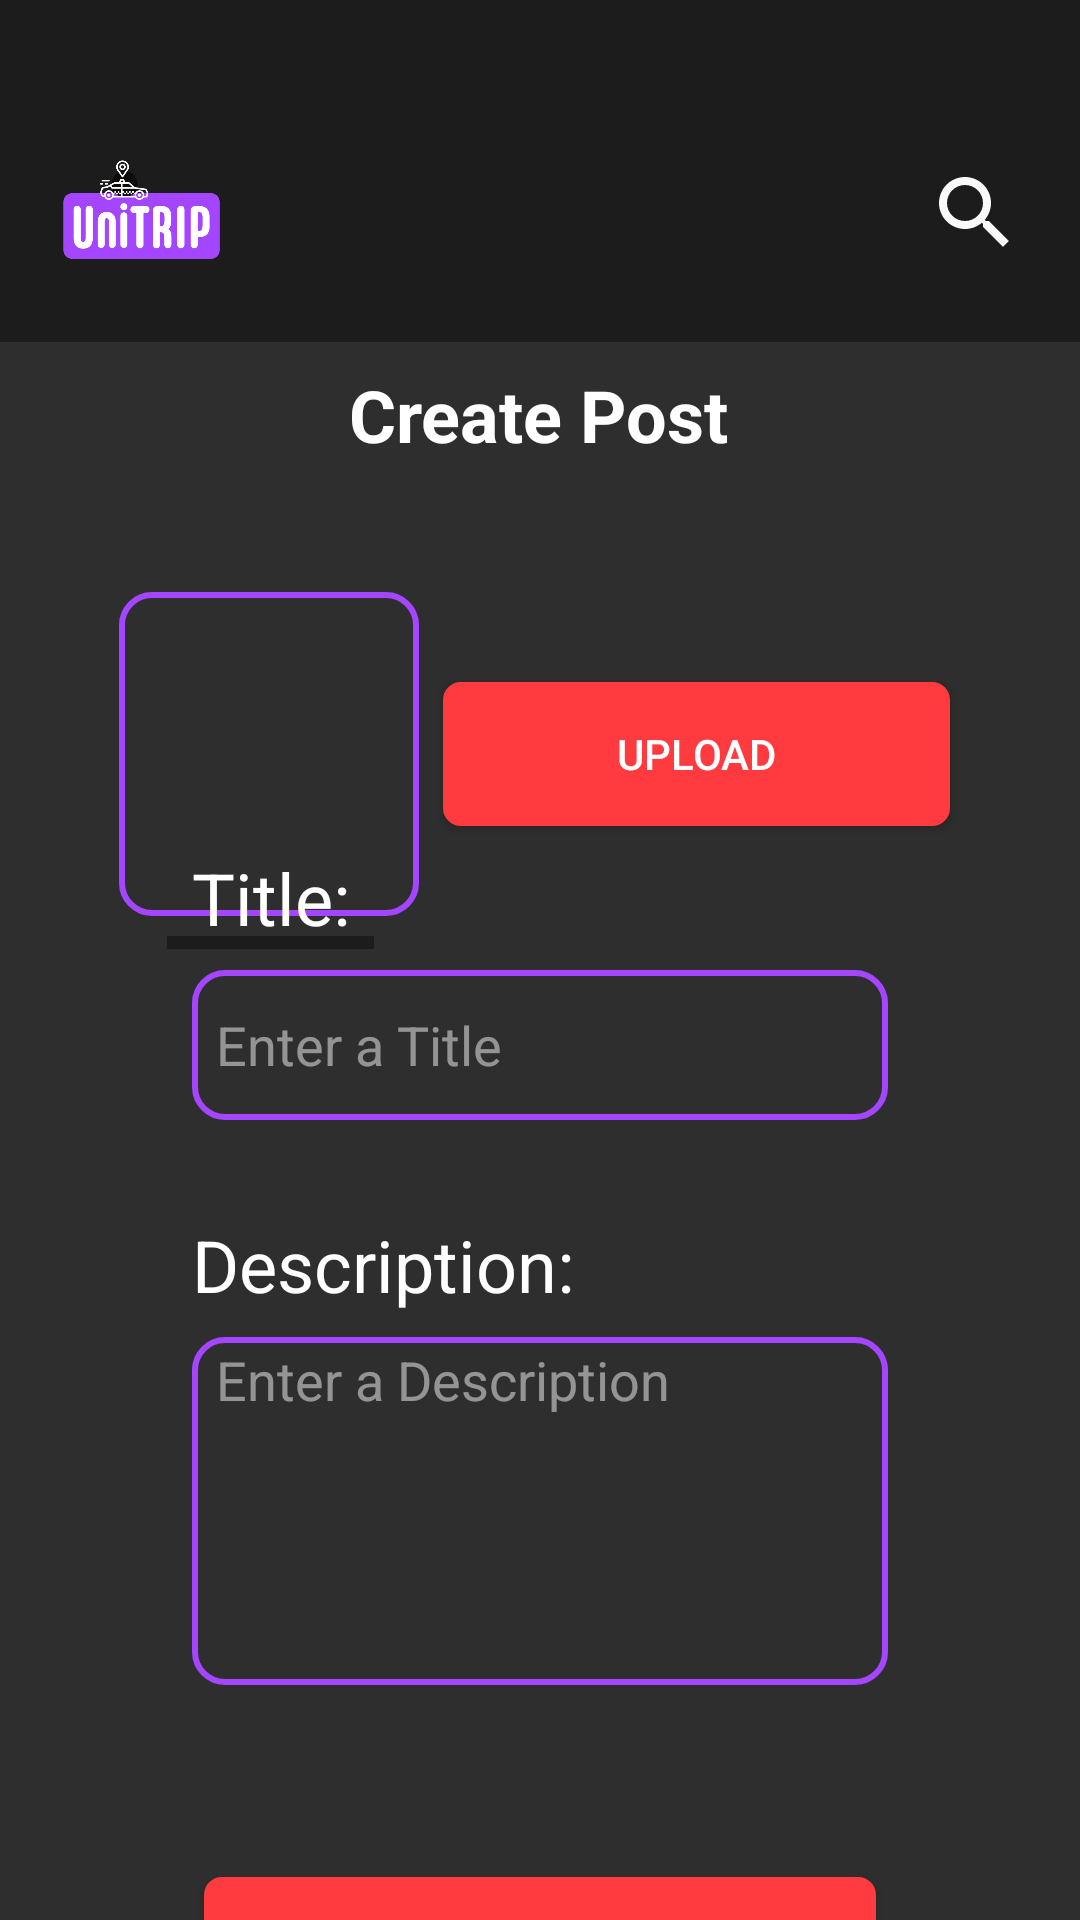

Where icons sit on this 1080px×1920px app screen, as [x1, y1, x2, y2]:
Search button: [939, 177, 1009, 247]
